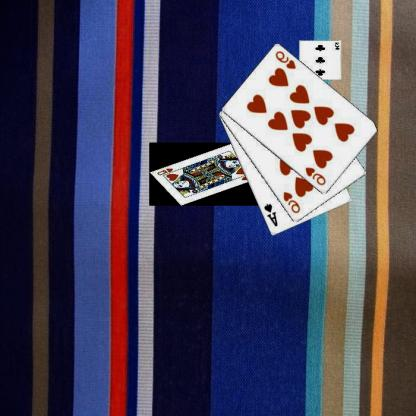9H: (304, 165, 329, 187), (274, 48, 299, 70), (282, 190, 303, 214)
AS: (264, 202, 280, 228)
